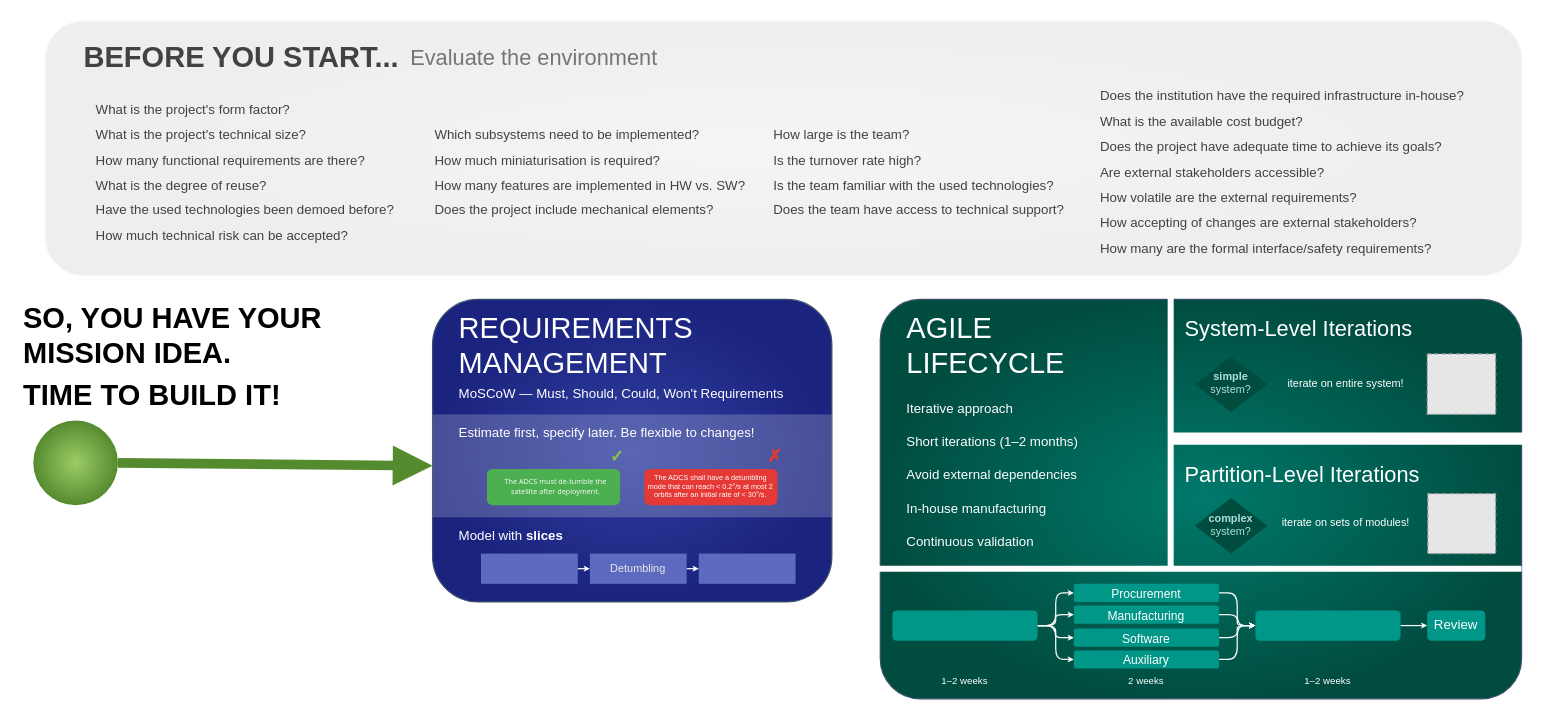
Image size: 1556x720. Some labels were removed from this diagram. Grey dashed boxes stand in for pictures. The shapes that lost their labels are listed below. From the top down, each one's centre as x and y in pixels, then its label:
pixel 528 568: Attitude Control
pixel 746 568: The ADCS must detumble...
pixel 964 625: Planning & Design
pixel 1327 625: System Validation
